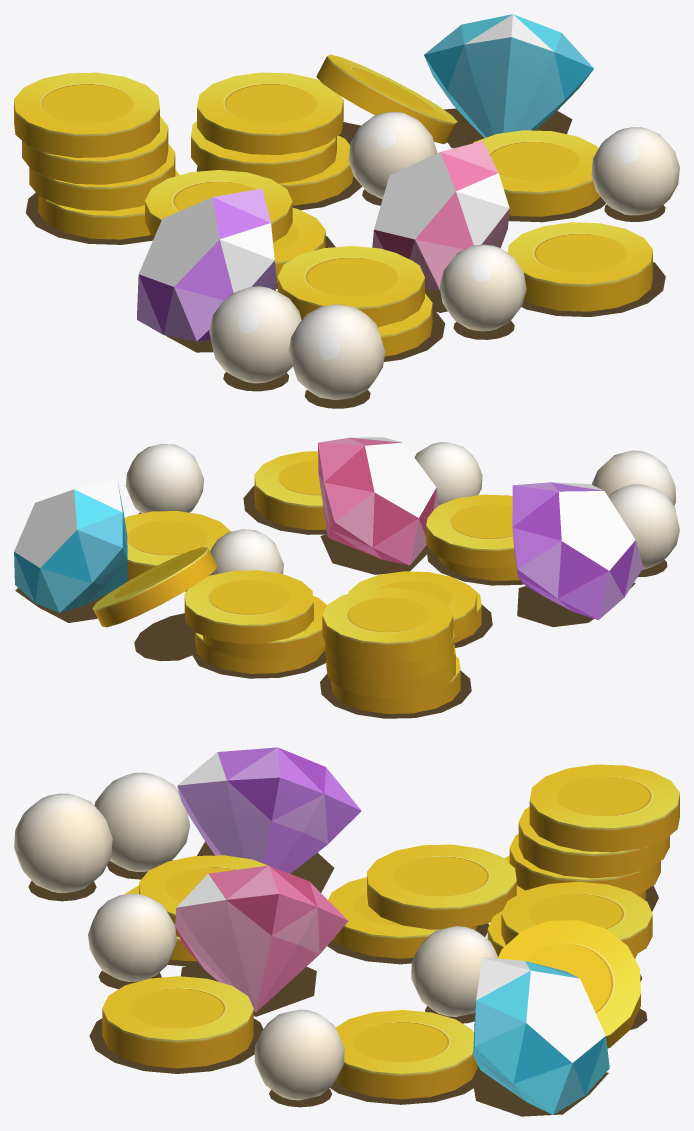
File: Mu_Treasure01.fbx
3 renders of one model, top to bottom at view 1: azimuth 30°, elevation 25°; view 2: azimuth 150°, elevation 25°; view 3: azimuth 270°, elevation 25°, orthographic. The views are drawn at different scales.
Parts seen in each view (by area): view 1: Mu_Treasure01_e, Mu_Treasure01_d, Mu_Treasure01_a, Mu_Treasure01_b, Mu_Treasure01_c, Mu_Treasure01_shadow; view 2: Mu_Treasure01_e, Mu_Treasure01_d, Mu_Treasure01_a, Mu_Treasure01_c, Mu_Treasure01_b, Mu_Treasure01_shadow; view 3: Mu_Treasure01_e, Mu_Treasure01_d, Mu_Treasure01_b, Mu_Treasure01_c, Mu_Treasure01_a, Mu_Treasure01_shadow.
Boxes of the visible parts, x1,y1,x2,y2 form: Mu_Treasure01_e: (14, 54, 652, 356); Mu_Treasure01_d: (209, 112, 679, 400); Mu_Treasure01_a: (137, 188, 276, 341); Mu_Treasure01_b: (424, 14, 593, 137); Mu_Treasure01_c: (372, 141, 509, 289); Mu_Treasure01_shadow: (25, 108, 665, 408); Mu_Treasure01_e: (92, 451, 519, 713); Mu_Treasure01_d: (125, 442, 679, 576); Mu_Treasure01_a: (512, 482, 643, 619); Mu_Treasure01_c: (318, 437, 438, 565); Mu_Treasure01_b: (14, 479, 127, 612); Mu_Treasure01_shadow: (15, 486, 667, 718); Mu_Treasure01_e: (102, 764, 679, 1099); Mu_Treasure01_d: (14, 772, 497, 1100); Mu_Treasure01_b: (473, 957, 609, 1114); Mu_Treasure01_c: (175, 865, 348, 1012); Mu_Treasure01_a: (177, 747, 361, 873); Mu_Treasure01_shadow: (28, 841, 658, 1116).
Bounding box in the file's own units: 187 × 43.26 × 192.
Materials: 2 (1 with a texture image).
